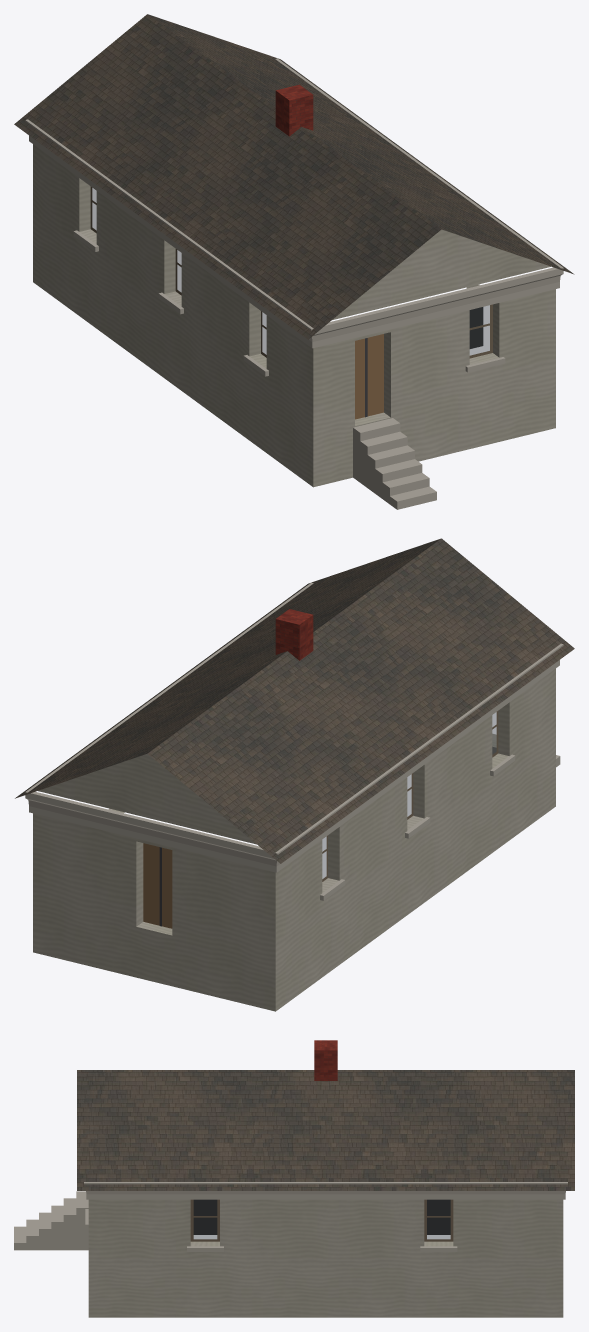
The model's file is dalton_cottage_1871__cottage_1871.glb.
3 renders of one model, top to bottom at view 1: azimuth 30°, elevation 25°; view 2: azimuth 150°, elevation 25°; view 3: azimuth 270°, elevation 25°, orthographic. The views are drawn at different scales.
Visible parts, largest first — view 1: dalton_cottage_1871__cottage_1871; view 2: dalton_cottage_1871__cottage_1871; view 3: dalton_cottage_1871__cottage_1871.
Part boxes in pixels (x1,y1,x2,y2): dalton_cottage_1871__cottage_1871: (14, 14, 574, 509); dalton_cottage_1871__cottage_1871: (15, 538, 574, 1011); dalton_cottage_1871__cottage_1871: (14, 1040, 574, 1317).
Bounding box in the file's own units: 6.7 × 6.3 × 14.42.
9 materials, 3 textured.
